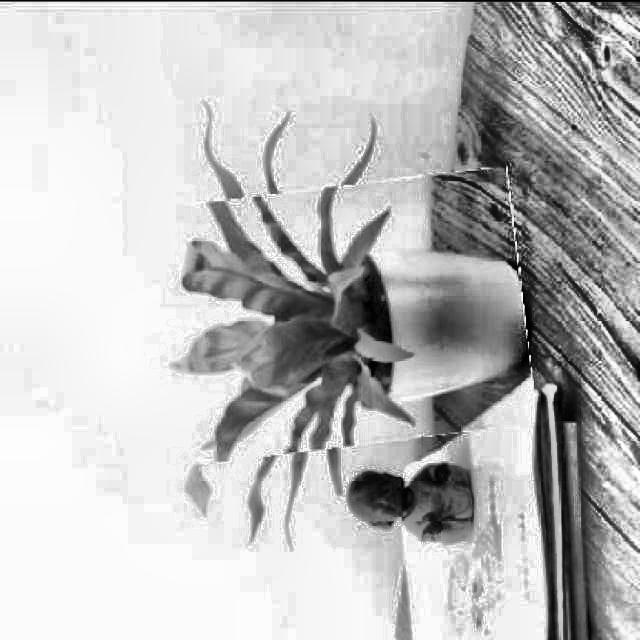plants: (156, 174, 530, 454)
